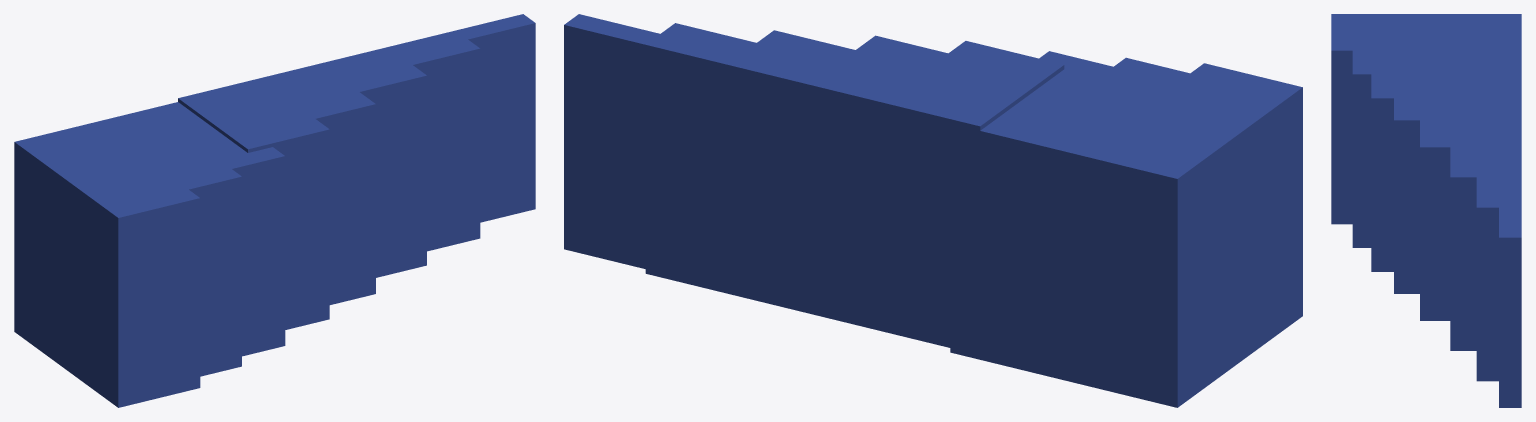
Rendered from tinker4.obj.
3 renders of one model, left to right at view 1: azimuth 30°, elevation 25°; view 2: azimuth 150°, elevation 25°; view 3: azimuth 270°, elevation 25°, orthographic. The views are drawn at different scales.
Visible parts, largest first — view 1: obj_7, obj_6, obj_4, obj_5, obj_2, obj_3, obj_1, obj_0; view 2: obj_7, obj_4, obj_3, obj_5, obj_1, obj_6, obj_0, obj_2; view 3: obj_4, obj_7, obj_6, obj_3, obj_5, obj_2, obj_1, obj_0.
Boxes of the visible parts, x1,y1,x2,y2 form: obj_7: (14,122,200,407); obj_6: (68,116,241,376); obj_4: (178,78,329,329); obj_5: (121,102,285,356); obj_2: (306,47,426,277); obj_3: (241,67,375,304); obj_1: (375,31,480,251); obj_0: (452,14,535,222); obj_7: (1079,63,1302,407); obj_4: (881,41,1064,355); obj_3: (808,35,972,337); obj_5: (950,51,1147,376); obj_1: (645,23,773,297); obj_6: (1014,57,1223,390); obj_0: (564,14,663,270); obj_2: (727,30,872,313); obj_4: (1394,83,1521,293); obj_7: (1331,14,1521,224); obj_6: (1352,37,1521,247); obj_3: (1420,110,1521,320); obj_5: (1371,61,1521,271); obj_2: (1450,140,1521,350); obj_1: (1476,171,1521,381); obj_0: (1499,206,1521,407).
Size of the model in its own units: 143 by 52 by 50.62.
